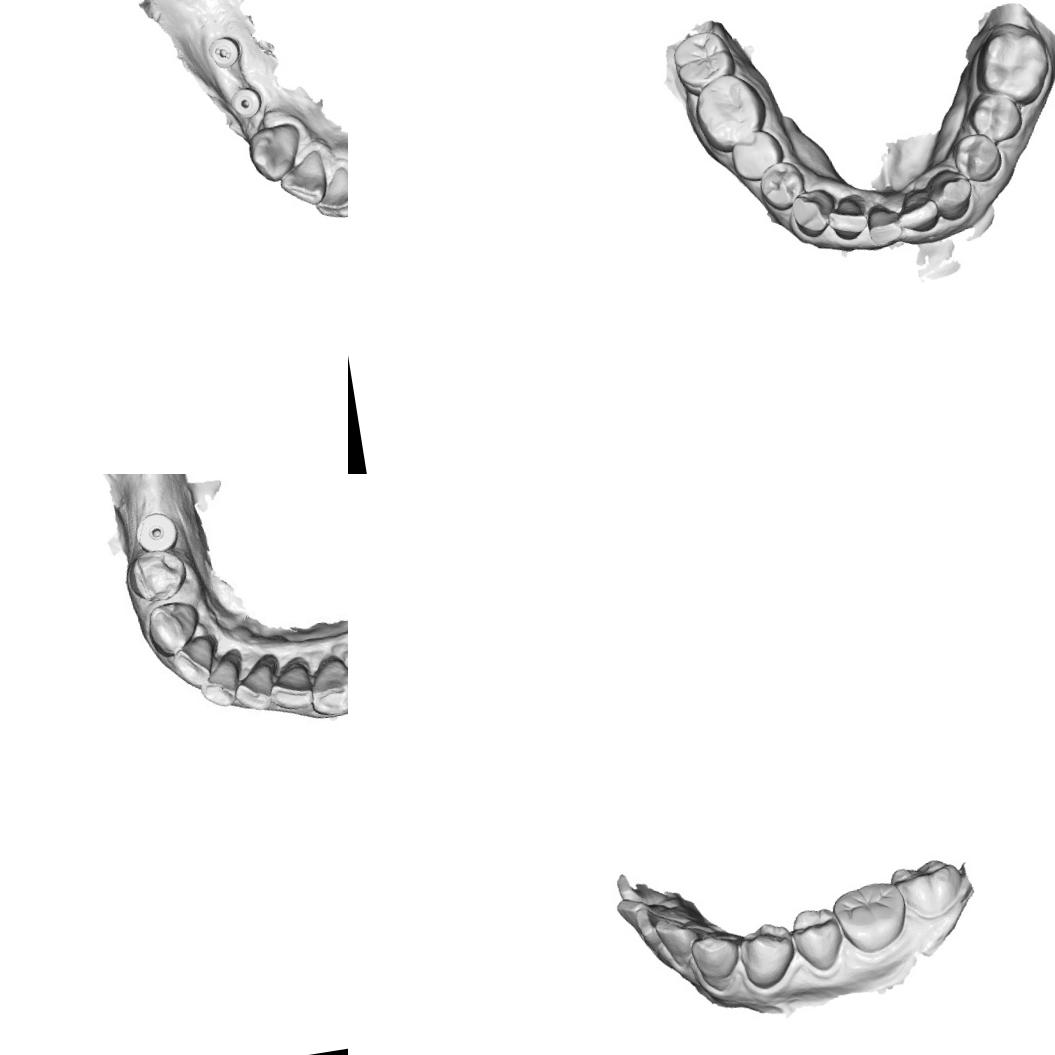canine: (244, 118, 309, 186), (688, 927, 740, 990), (923, 165, 977, 224), (145, 599, 200, 655), (788, 186, 840, 242), (310, 651, 348, 722)
implant: (136, 509, 178, 550), (225, 82, 266, 122)
implant_minus: (203, 29, 246, 73)
incisor: (274, 146, 330, 212), (614, 890, 680, 944), (270, 657, 322, 713), (173, 638, 221, 697), (653, 914, 703, 970), (198, 652, 246, 706), (307, 163, 348, 223), (824, 194, 872, 244), (894, 187, 941, 236), (232, 659, 277, 710), (864, 201, 905, 249)
molar: (967, 16, 1055, 113), (689, 68, 772, 158), (827, 877, 914, 958), (886, 853, 972, 926), (668, 27, 740, 100)
premolar: (730, 915, 801, 994), (784, 901, 848, 978), (963, 86, 1025, 146), (726, 125, 788, 185), (130, 546, 188, 603), (754, 158, 810, 214), (948, 130, 1005, 185)
